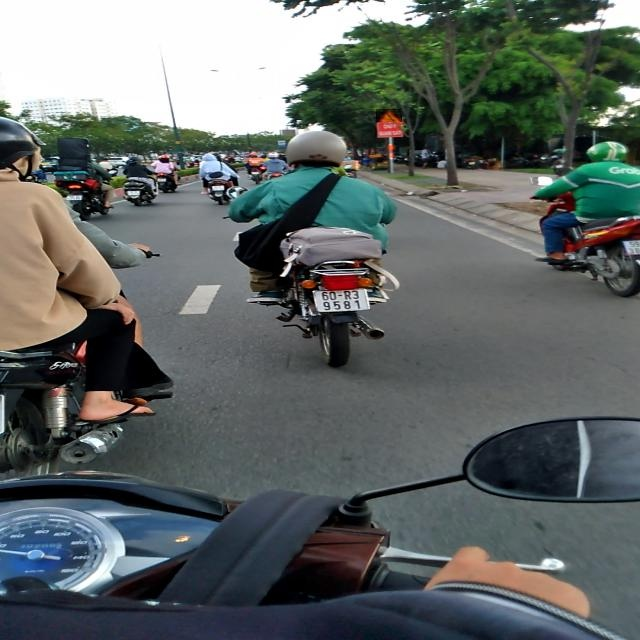bien_nguy_hiem: (376, 109, 402, 122)
